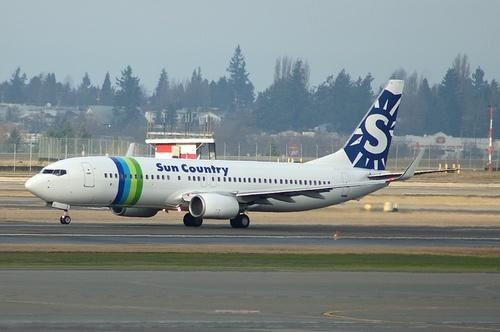aeroplane: (24, 79, 458, 228)
